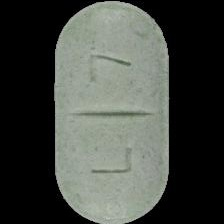54868-0935: (0, 0, 224, 224)
